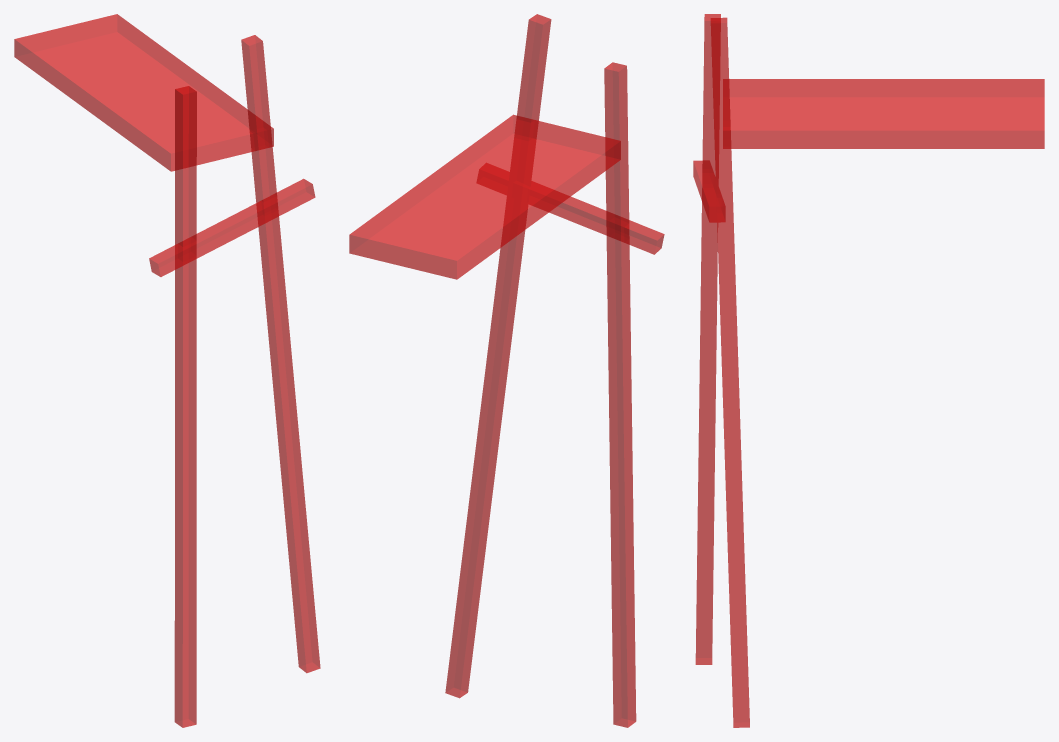
The model's file is SM_Bld_Rickety_Dock_02_Collision.fbx.
3 views of the same model, side by side, from view 1: azimuth 30°, elevation 25°; view 2: azimuth 150°, elevation 25°; view 3: azimuth 270°, elevation 25° (orthographic). The views are drawn at different scales.
Parts seen in each view (by area): view 1: SM_Bld_Rickety_Dock_02_Collision; view 2: SM_Bld_Rickety_Dock_02_Collision; view 3: SM_Bld_Rickety_Dock_02_Collision.
Part boxes in pixels (<box>): SM_Bld_Rickety_Dock_02_Collision: <box>14,14,320,727</box>; SM_Bld_Rickety_Dock_02_Collision: <box>349,14,664,727</box>; SM_Bld_Rickety_Dock_02_Collision: <box>693,14,1044,727</box>.
Bounding box in the file's own units: 244 × 841 × 395.
